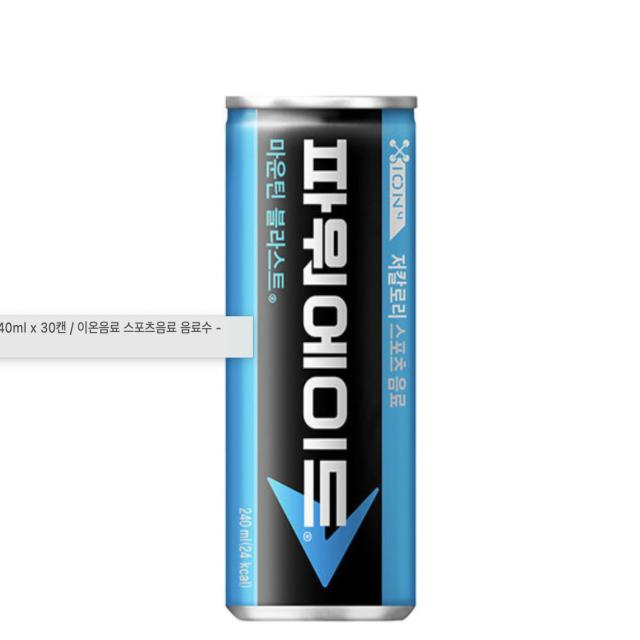recyclable: (195, 66, 433, 640)
